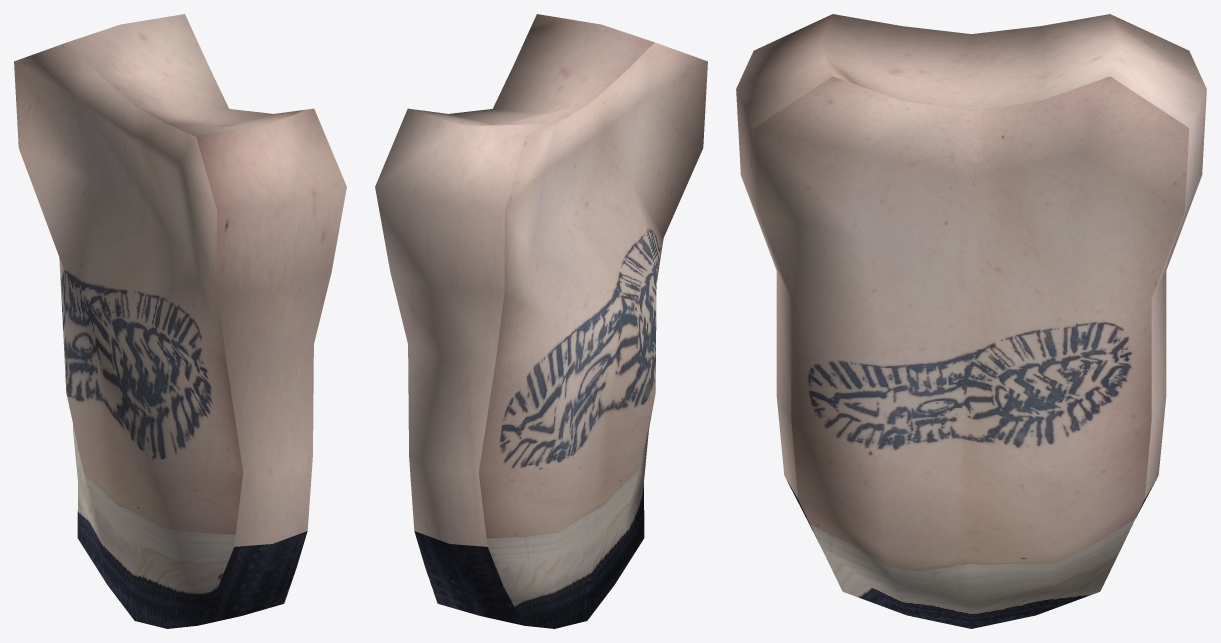
File: stinktat.gltf
3 renders of one model, left to right at view 1: azimuth 30°, elevation 25°; view 2: azimuth 150°, elevation 25°; view 3: azimuth 270°, elevation 25°, orthographic. The views are drawn at different scales.
Visible parts, largest first — view 1: Cube.002; view 2: Cube.002; view 3: Cube.002.
Boxes of the visible parts, x1,y1,x2,y2 form: Cube.002: [14, 14, 346, 628]; Cube.002: [375, 14, 707, 628]; Cube.002: [736, 14, 1206, 628].
Size of the model in its own units: 0.9666 by 2.82 by 2.1.
